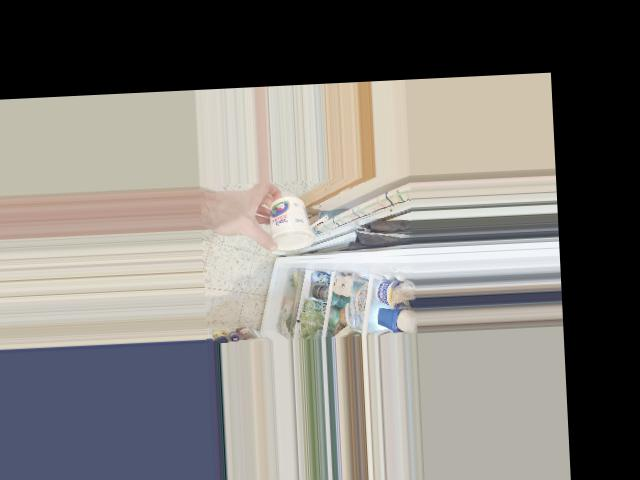cotage: (263, 194, 316, 251)
